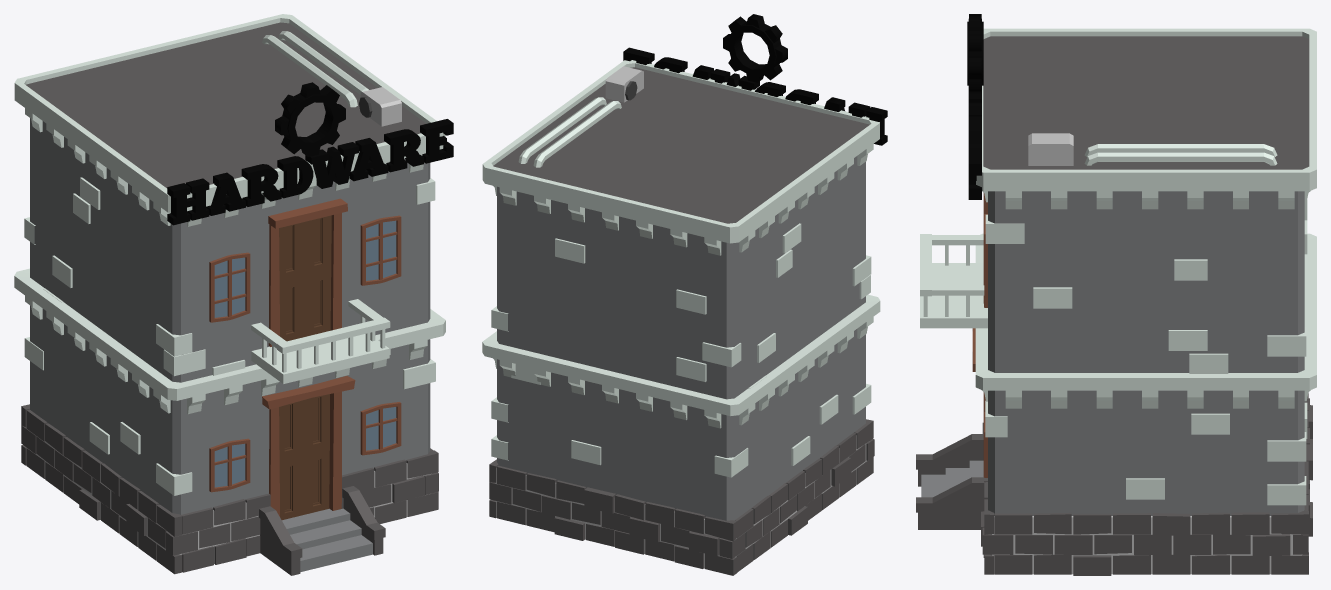
The model's file is Hardware.fbx.
The picture shows the model from 3 angles, left to right: view 1: azimuth 30°, elevation 25°; view 2: azimuth 150°, elevation 25°; view 3: azimuth 270°, elevation 25°; orthographic projection. The views are drawn at different scales.
Visible parts, largest first — view 1: 2Story_Balcony_Mat, Sign_Hardware; view 2: 2Story_Balcony_Mat, Sign_Hardware; view 3: 2Story_Balcony_Mat, Sign_Hardware.
Part boxes in pixels (x1,y1,x2,y2): 2Story_Balcony_Mat: [14, 14, 445, 575]; Sign_Hardware: [167, 82, 453, 225]; 2Story_Balcony_Mat: [482, 60, 880, 575]; Sign_Hardware: [623, 14, 887, 145]; 2Story_Balcony_Mat: [916, 28, 1316, 575]; Sign_Hardware: [967, 14, 983, 199].
Size of the model in its own units: 218 by 340 by 253.
